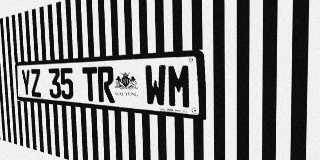3: (48, 68, 61, 99)
5: (60, 68, 74, 100)
M: (167, 63, 192, 109)
R: (97, 66, 115, 103)
T: (82, 67, 98, 102)
W: (144, 64, 167, 107)
Y: (21, 69, 31, 96)
Z: (30, 69, 41, 97)
